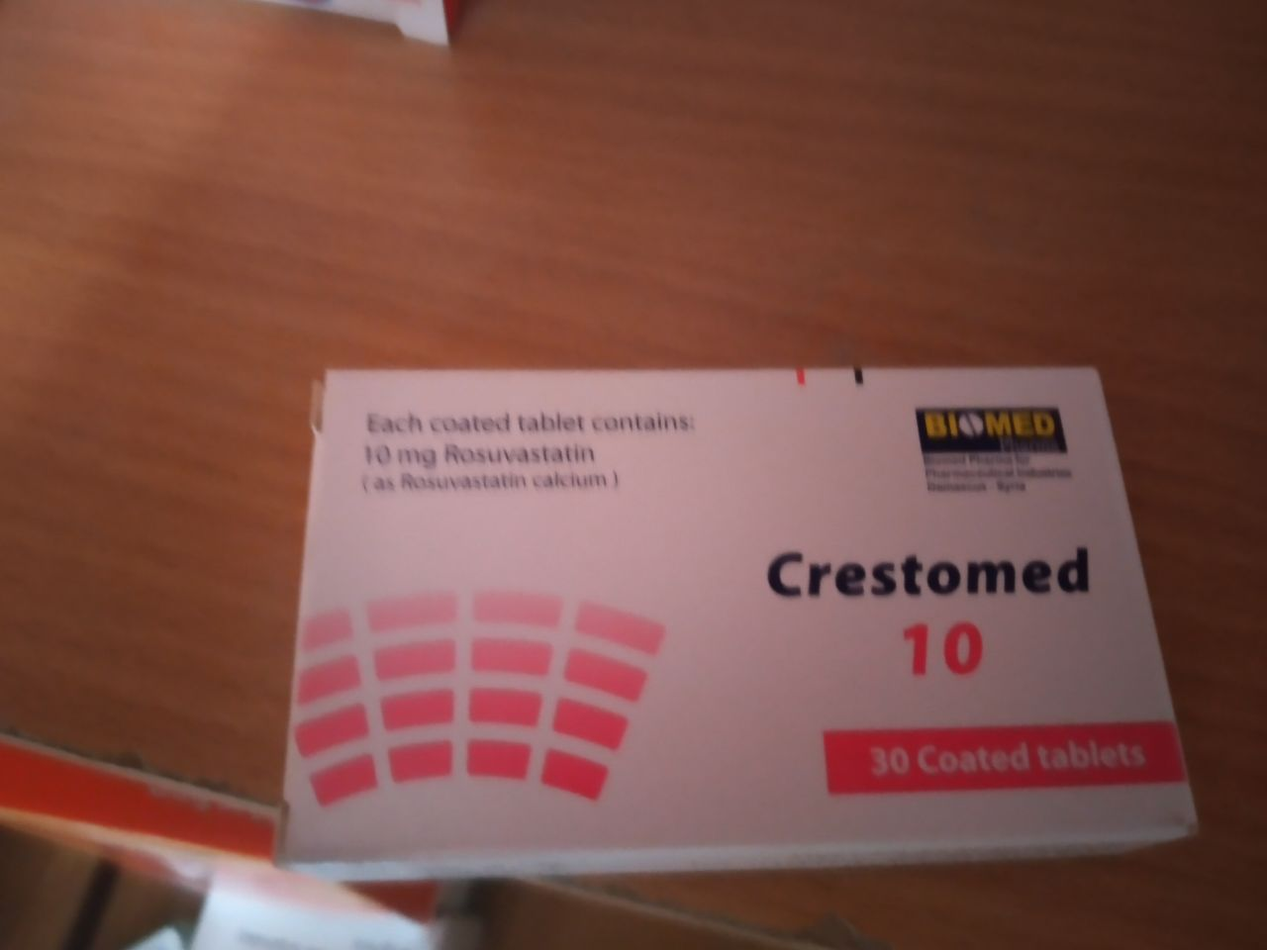Medicine: (262, 354, 1208, 888)
